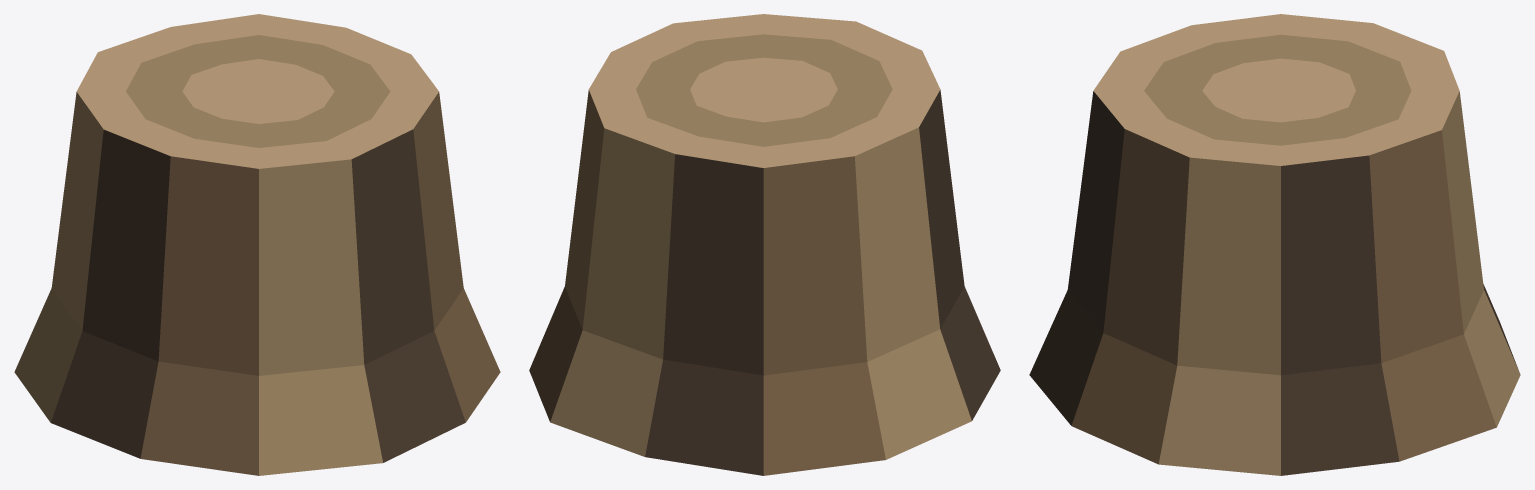
The model's file is TW_STUMP_CUT_SMALL_A_LOD0.glb.
The picture shows the model from 3 angles, left to right: view 1: azimuth 30°, elevation 25°; view 2: azimuth 150°, elevation 25°; view 3: azimuth 270°, elevation 25°; orthographic projection.
Parts seen in each view (by area): view 1: TW_STUMP_CUT_SMALL_A_LOD0; view 2: TW_STUMP_CUT_SMALL_A_LOD0; view 3: TW_STUMP_CUT_SMALL_A_LOD0.
Part boxes in pixels (<box>): TW_STUMP_CUT_SMALL_A_LOD0: <box>14,14,500,475</box>; TW_STUMP_CUT_SMALL_A_LOD0: <box>529,14,1000,475</box>; TW_STUMP_CUT_SMALL_A_LOD0: <box>1029,14,1520,475</box>.
Bounding box in the file's own units: 0.7385 × 0.48 × 0.7519.
Materials: 1 (1 with a texture image).
